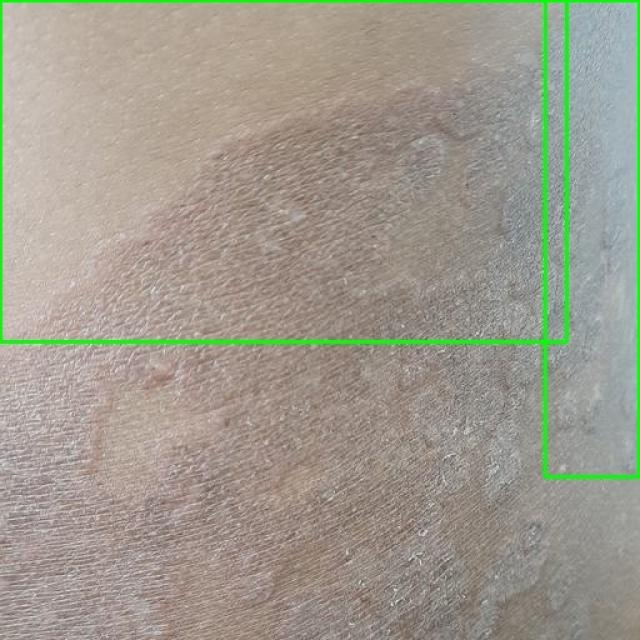Tinea Corporis: (0, 0, 566, 341), (545, 0, 639, 476)
